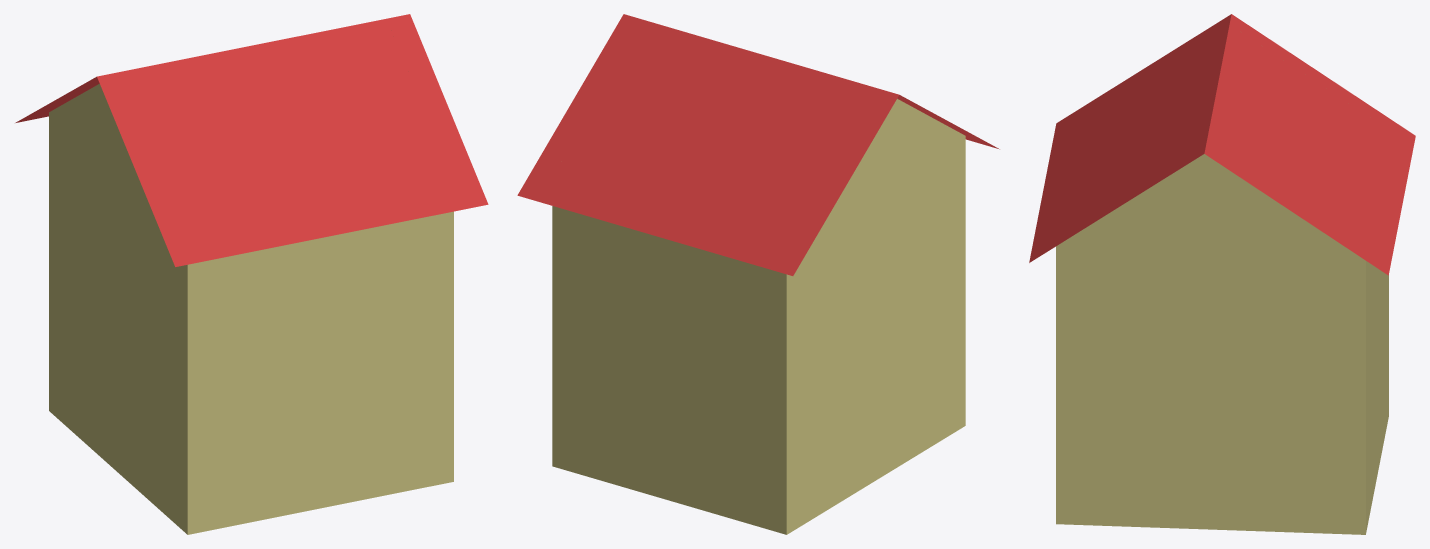
3 renders of one model, left to right at view 1: azimuth 30°, elevation 25°; view 2: azimuth 150°, elevation 25°; view 3: azimuth 270°, elevation 25°, orthographic. The views are drawn at different scales.
Visible parts, largest first — view 1: group_5, group_3, group_4; view 2: group_5, group_3, group_4; view 3: group_5, group_3, group_4.
Boxes of the visible parts, x1,y1,x2,y2 form: group_5: [49, 83, 453, 534]; group_3: [15, 15, 488, 266]; group_4: [387, 14, 415, 88]; group_5: [552, 98, 965, 534]; group_3: [552, 14, 878, 273]; group_4: [517, 15, 999, 275]; group_5: [1056, 154, 1388, 534]; group_3: [1029, 14, 1395, 262]; group_4: [1142, 14, 1415, 275].
Size of the model in its own units: 10.85 by 11.64 by 12.82.
